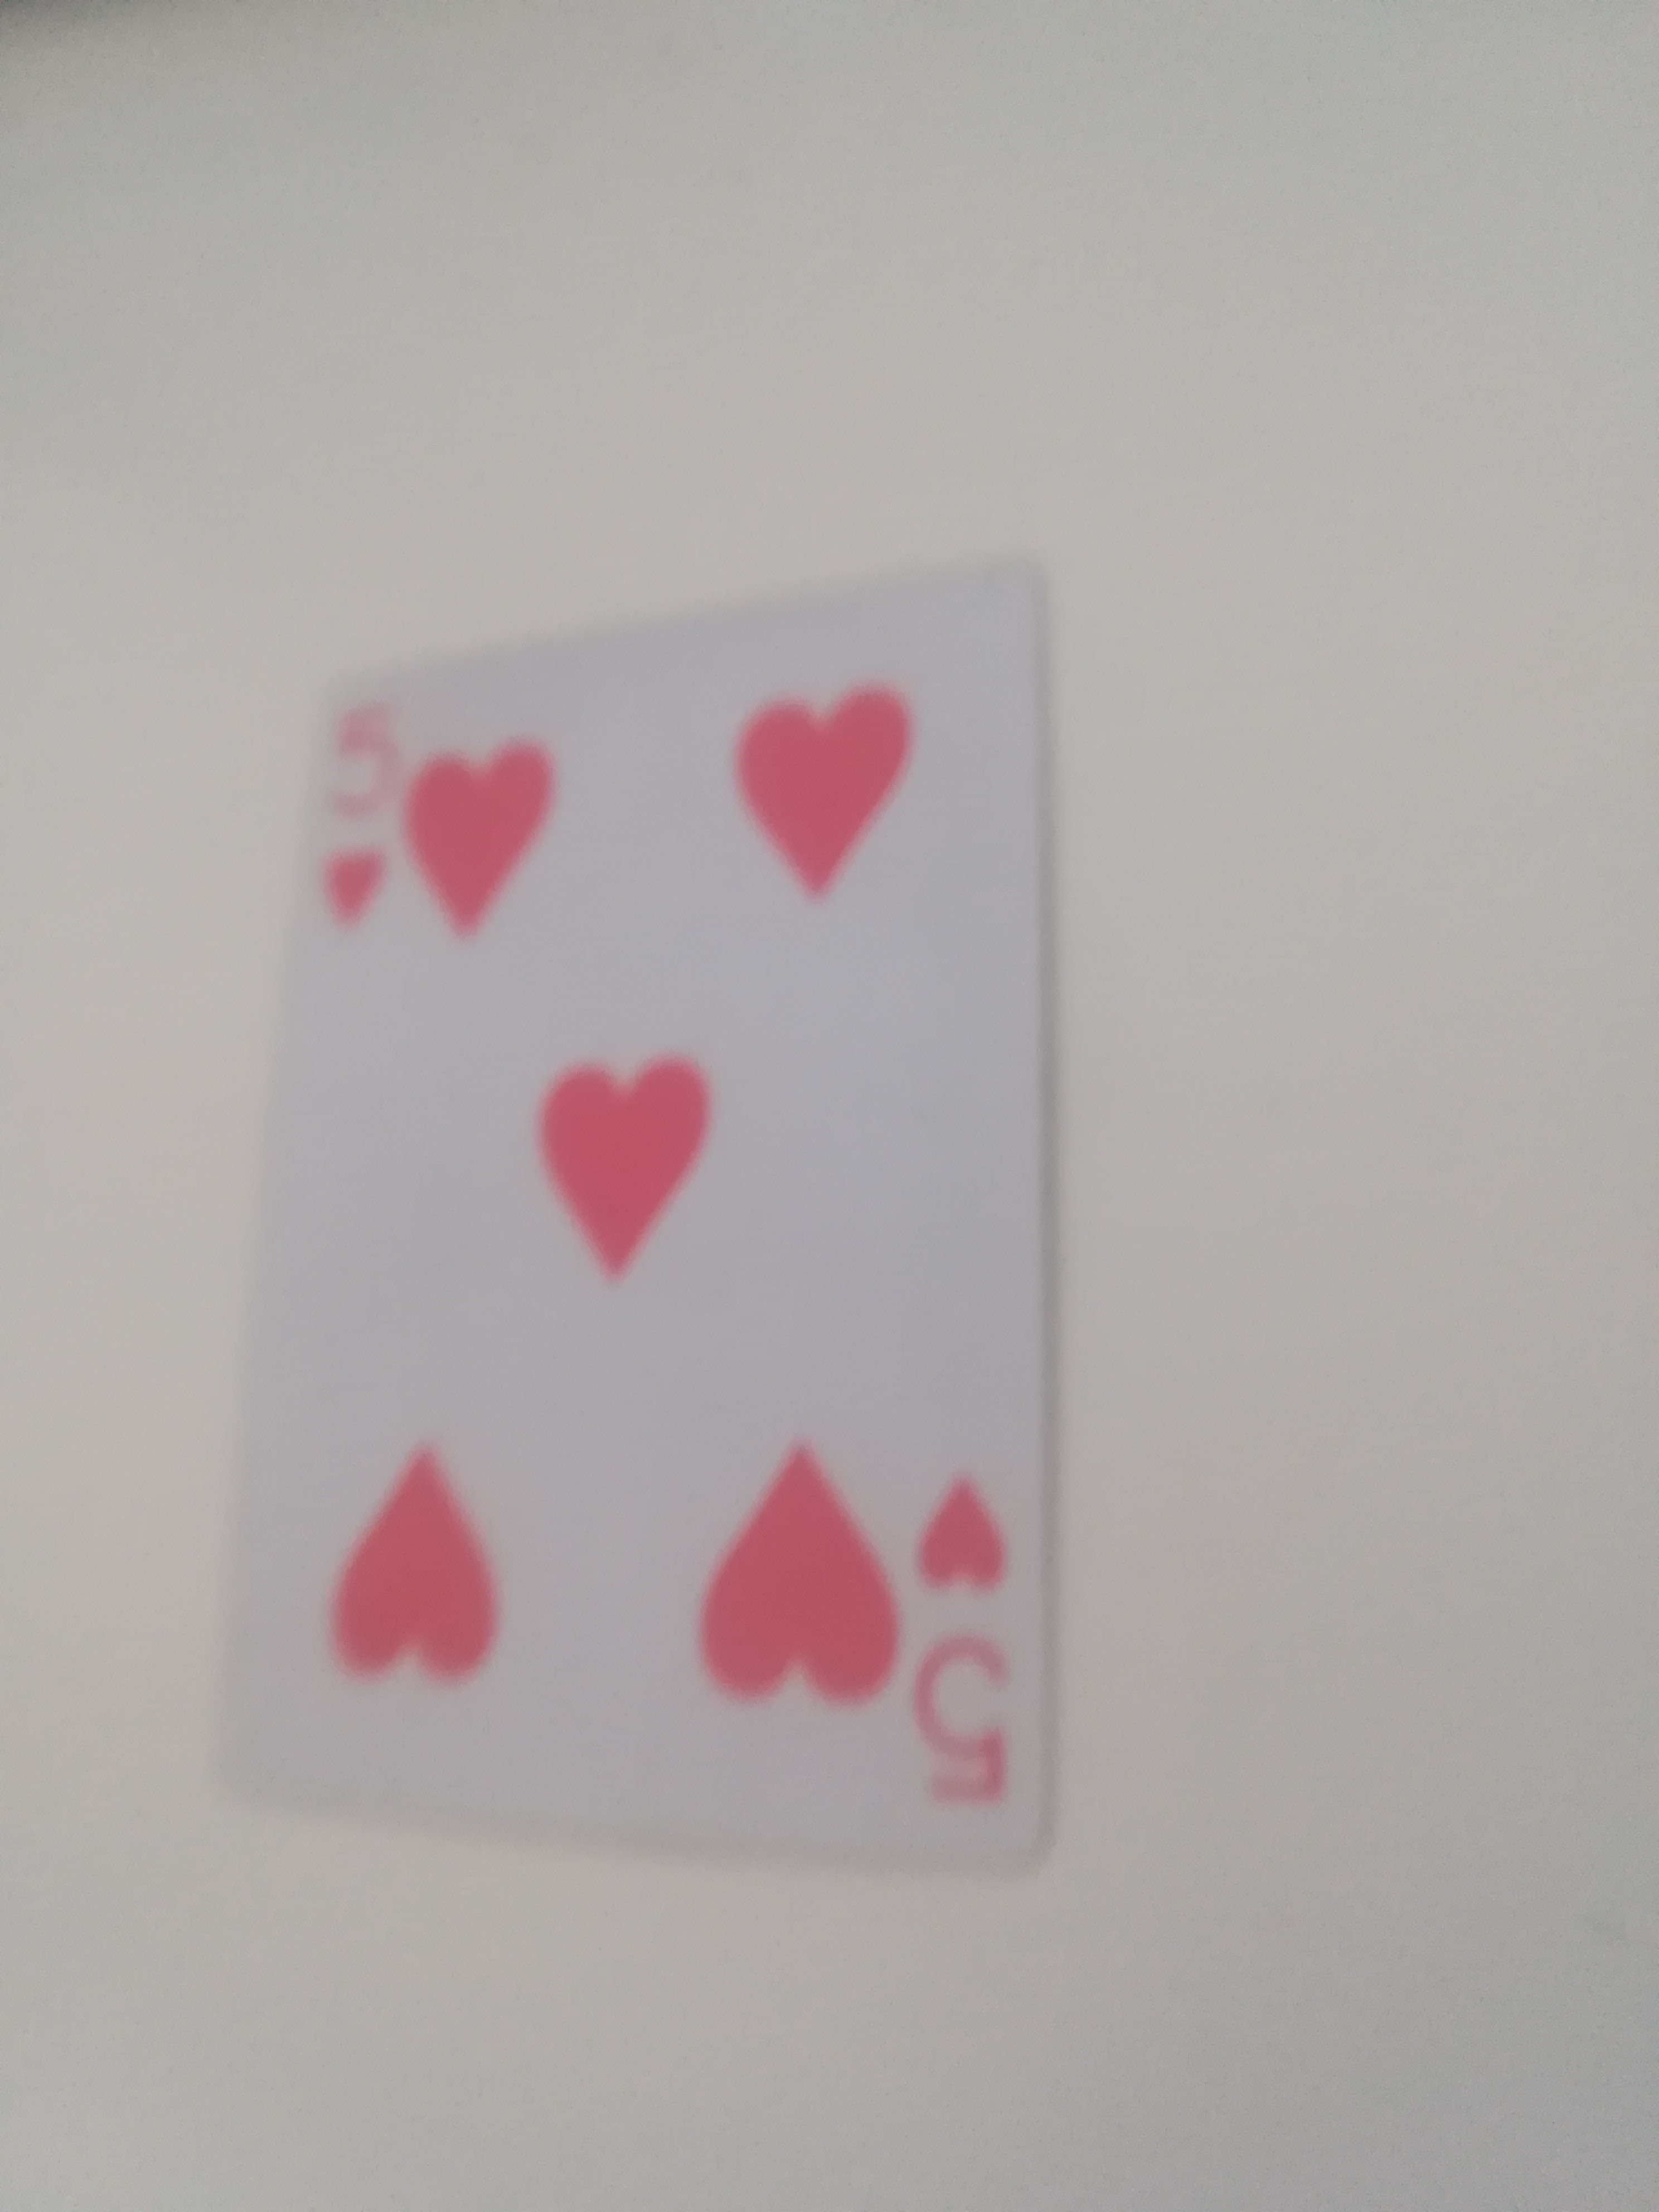5H: (214, 538, 1070, 1834)
